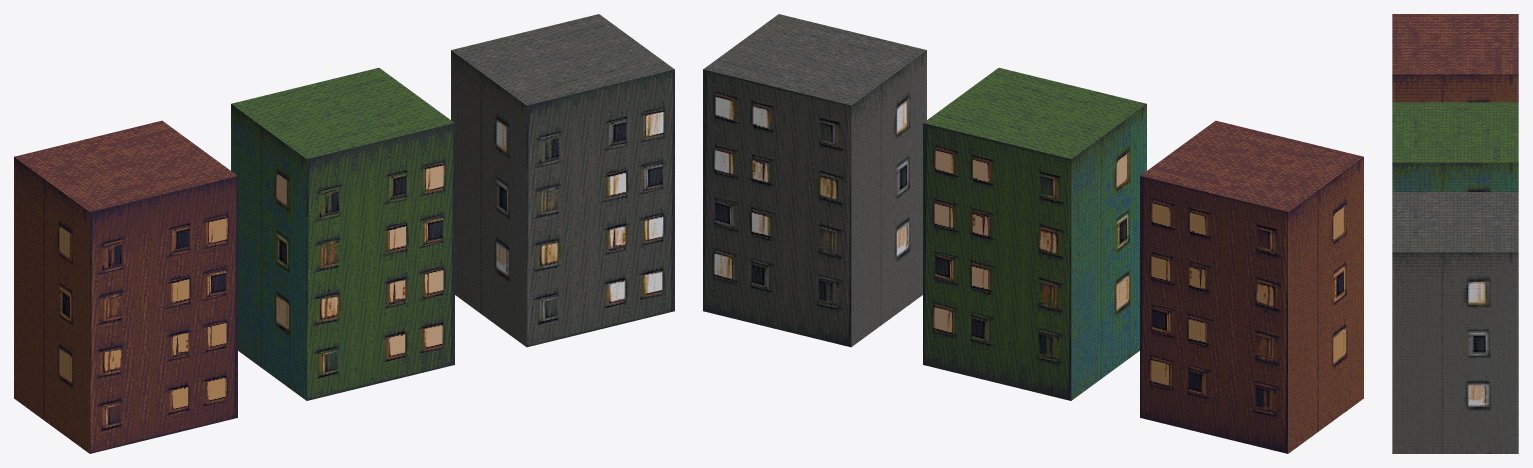
Rendered from Building.fbx.
3 views of the same model, side by side, from view 1: azimuth 30°, elevation 25°; view 2: azimuth 150°, elevation 25°; view 3: azimuth 270°, elevation 25° (orthographic). The views are drawn at different scales.
Parts seen in each view (by area): view 1: pCube3, pCube1, pCube2; view 2: pCube3, pCube1, pCube2; view 3: pCube1, pCube2, pCube3.
Part boxes in pixels (<box>): pCube3: <box>14,120,237,453</box>; pCube1: <box>451,14,674,347</box>; pCube2: <box>231,68,454,400</box>; pCube3: <box>1140,120,1363,453</box>; pCube1: <box>703,14,926,347</box>; pCube2: <box>923,68,1146,400</box>; pCube1: <box>1392,192,1518,453</box>; pCube2: <box>1392,102,1518,191</box>; pCube3: <box>1392,14,1518,102</box>.
Bounding box in the file's own units: 35.2 × 13.9 × 7.89.
3 materials, 3 textured.
